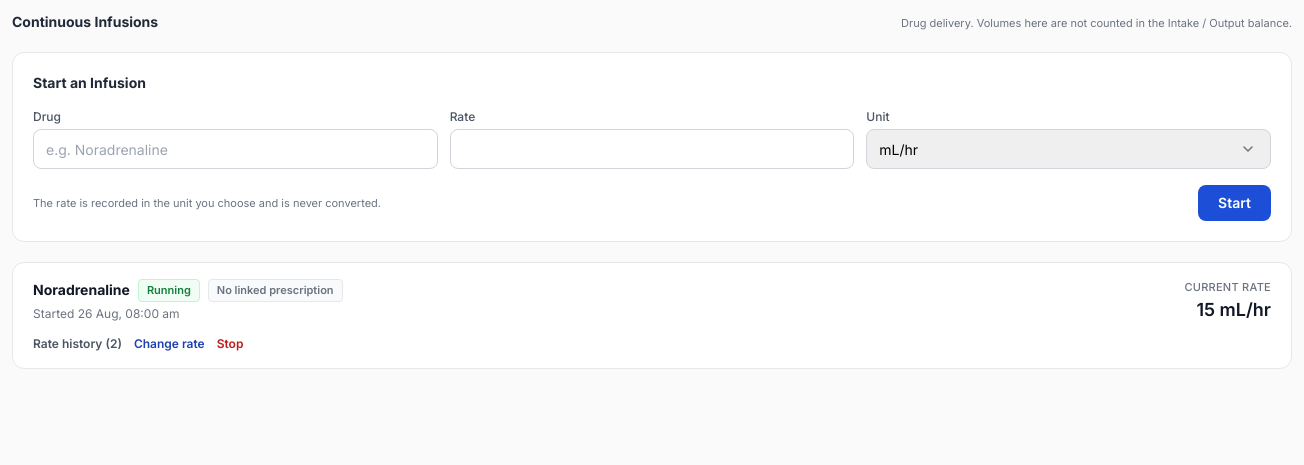
Test: InfusionPanel — ICU continuous infusions (ICU-6) › strikes through a rate a correction superseded and marks both rows
Click the button "Rate history (2)" at (77, 344), box top-left (33, 336), bottom-right (122, 352)
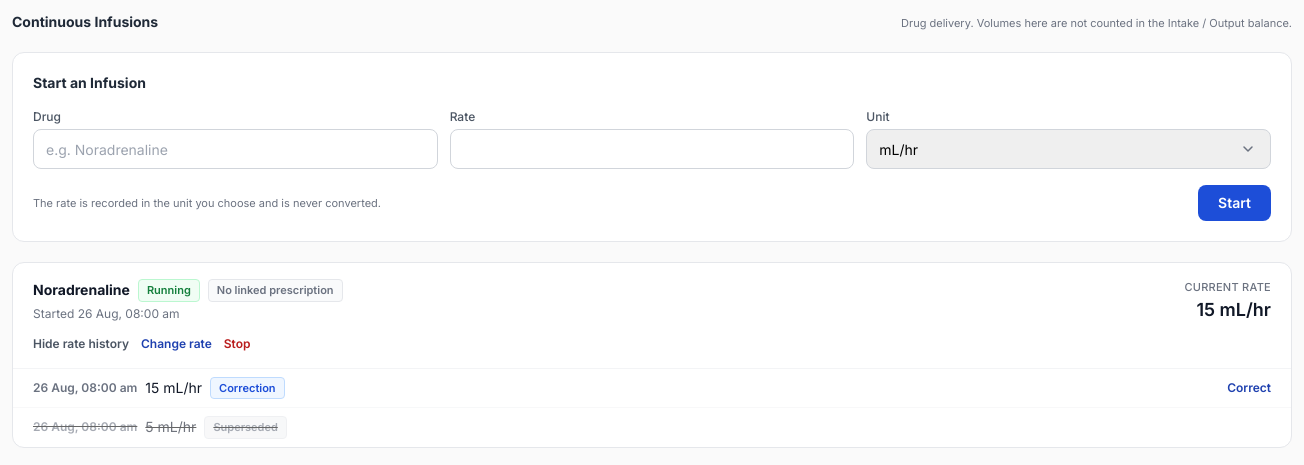
Expected: the text "15 mL/hr" below "Current rate" is shown, top-left (1196, 298), bottom-right (1271, 320)
Expected: the text "Correction" is shown, top-left (210, 376), bottom-right (285, 399)
Expected: the text "Superseded" is shown, top-left (204, 416), bottom-right (287, 438)
